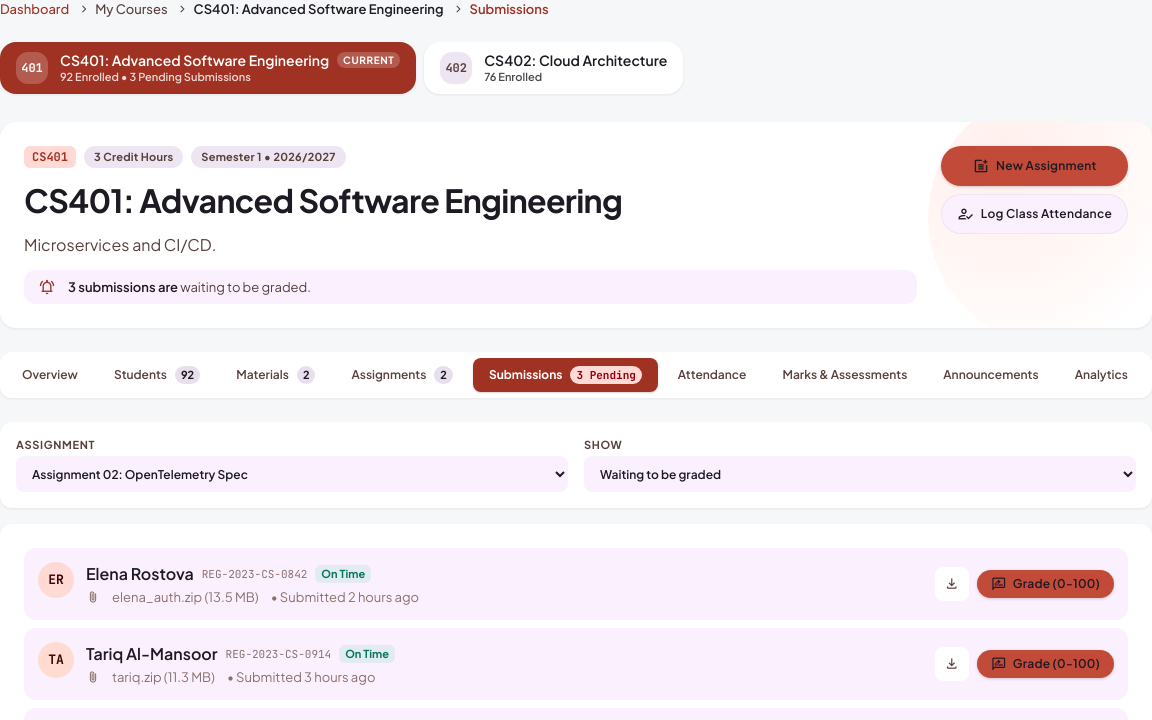
Test case: course workspace: tabs › filters submissions by status
Check: the text "Elena Rostova" is shown, box [86, 562, 194, 586]
Select "All submissions" in the dropdown named "Filter submissions". click: (860, 474)
box: [584, 456, 1136, 492]
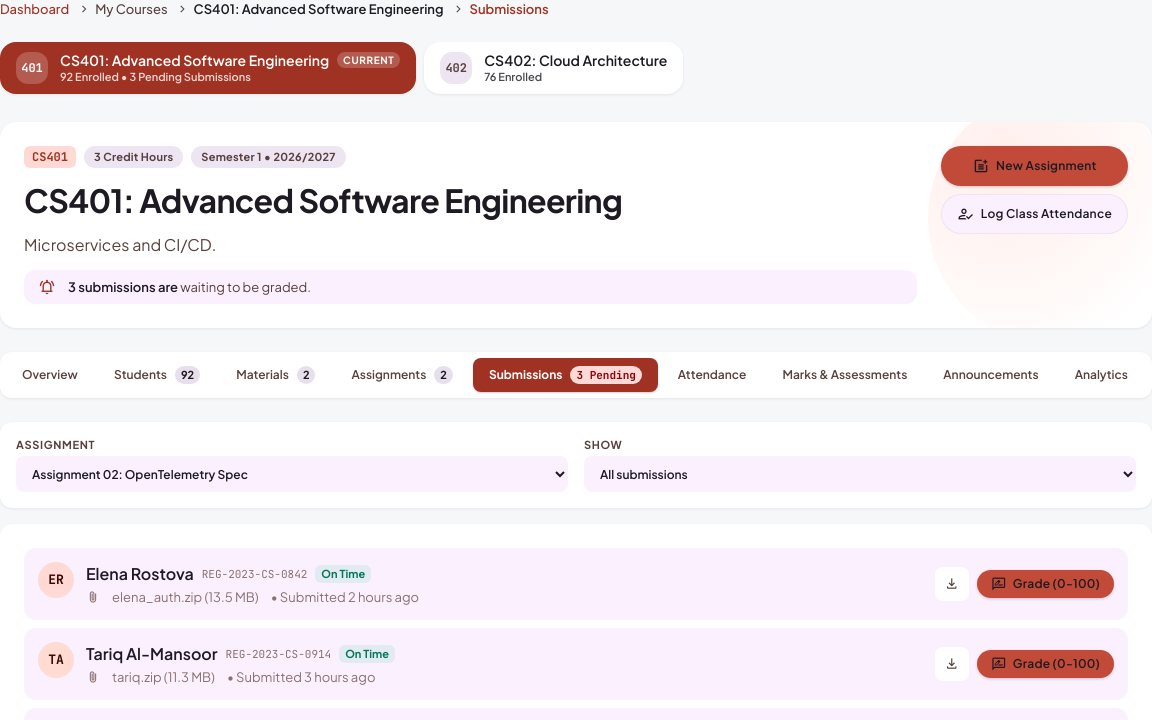
Select "Lab 01" in the dropdown named "Choose assignment". click: (292, 474)
box: [16, 456, 568, 492]
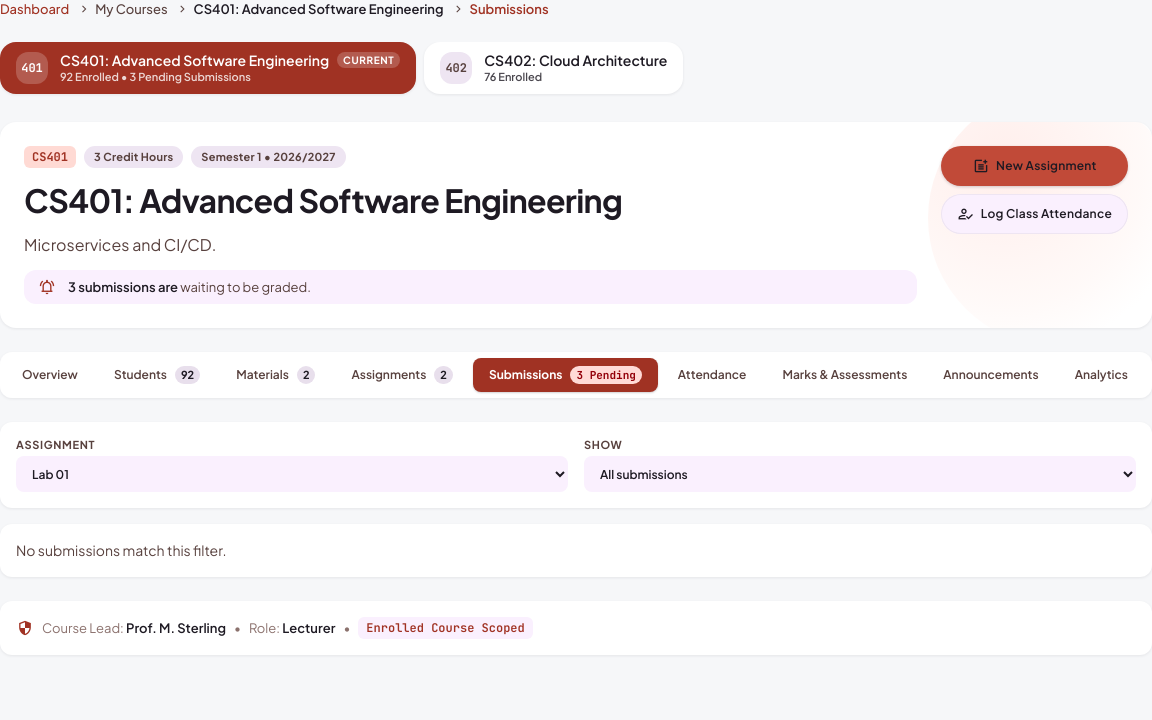
Check: the text "No submissions match this filter." is shown, box [16, 540, 226, 561]
